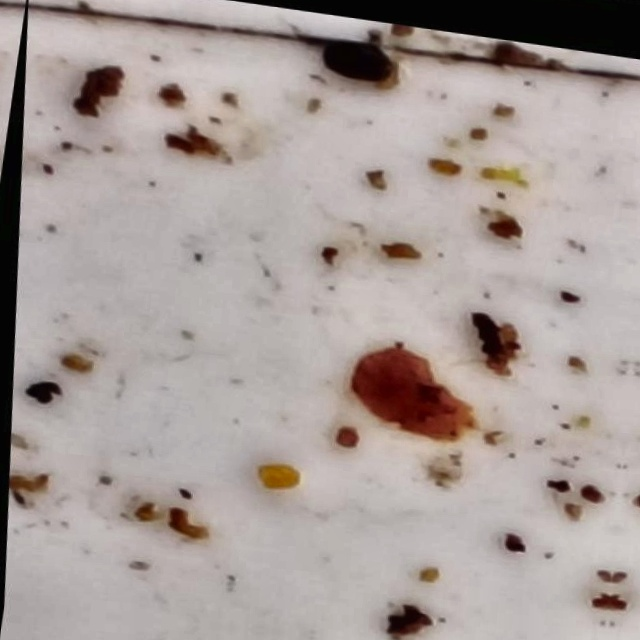varroa: (315, 30, 395, 83)
